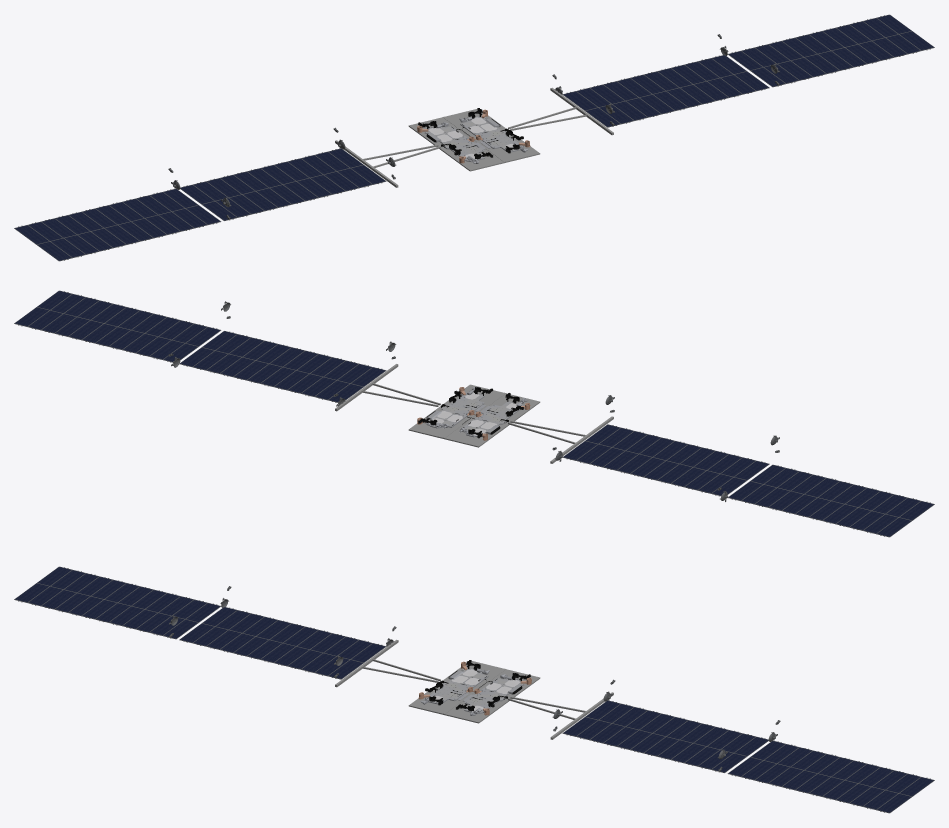
The model's file is starlink-v2-mini-hd.glb.
3 views of the same model, one above another, from view 1: azimuth 30°, elevation 25°; view 2: azimuth 150°, elevation 25°; view 3: azimuth 330°, elevation 25° (orthographic).
Parts seen in each view (by area): view 1: starboard-wing-hd-1, starboard-wing-hd-0, port-wing-hd-1, port-wing-hd-0, bus-plate, bus-hd-p-Object_2, bus-hd-s-Object_2; view 2: starboard-wing-hd-1, starboard-wing-hd-0, port-wing-hd-1, port-wing-hd-0, bus-plate, bus-hd-p-Object_2, bus-hd-s-Object_2; view 3: port-wing-hd-1, port-wing-hd-0, starboard-wing-hd-1, starboard-wing-hd-0, bus-plate, bus-hd-s-Object_2, bus-hd-p-Object_2.
Boxes of the visible parts, x1,y1,x2,y2 form: starboard-wing-hd-1: (14, 168, 231, 261); starboard-wing-hd-0: (180, 127, 396, 220); port-wing-hd-1: (717, 14, 934, 87); port-wing-hd-0: (552, 55, 769, 127); bus-plate: (408, 109, 540, 171); bus-hd-p-Object_2: (460, 108, 530, 153); bus-hd-s-Object_2: (417, 121, 492, 163); starboard-wing-hd-1: (717, 435, 934, 537); starboard-wing-hd-0: (552, 395, 769, 496); port-wing-hd-1: (14, 290, 230, 367); port-wing-hd-0: (179, 331, 396, 406); bus-plate: (408, 384, 540, 447); bus-hd-p-Object_2: (417, 387, 493, 428); bus-hd-s-Object_2: (462, 393, 530, 440); port-wing-hd-1: (717, 720, 934, 813); port-wing-hd-0: (552, 679, 768, 772); starboard-wing-hd-1: (14, 566, 231, 639); starboard-wing-hd-0: (179, 607, 396, 679); bus-plate: (408, 661, 540, 723); bus-hd-s-Object_2: (418, 660, 488, 705); bus-hd-p-Object_2: (456, 673, 531, 715).
Bounding box in the file's own units: 33.74 × 1.14 × 4.1.
3 materials, 3 textured.
